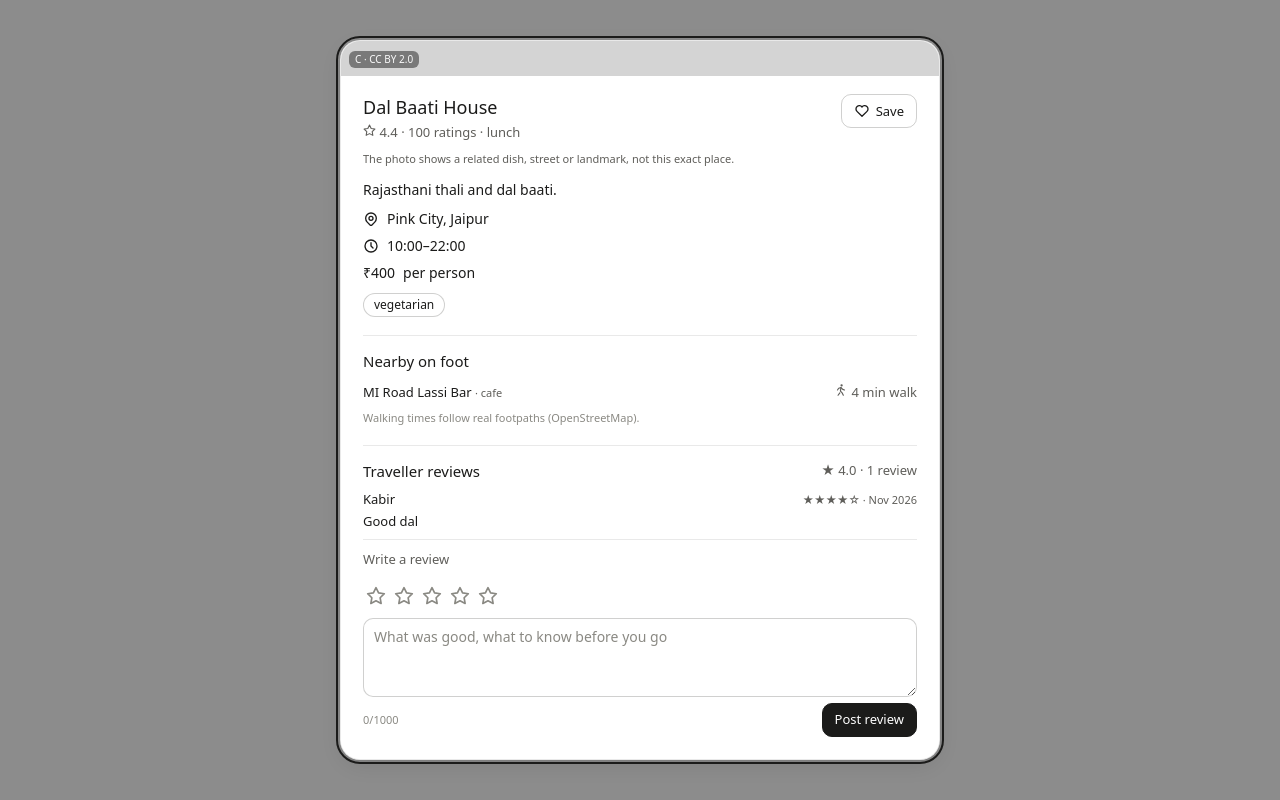
Scenario: place details and reviews › shows nearby walking times, the photo note and reviews; posting needs stars
The width and height of the screenshot is (1280, 800).
(page scrolled)
Check: the text "MI Road Lassi Bar" is shown, box [363, 383, 472, 401]
Check: the text "4 min walk" is shown, box [834, 383, 917, 402]
Step 1. Click the button "Post review" → {"x": 869, "y": 720}, box [822, 703, 917, 737]
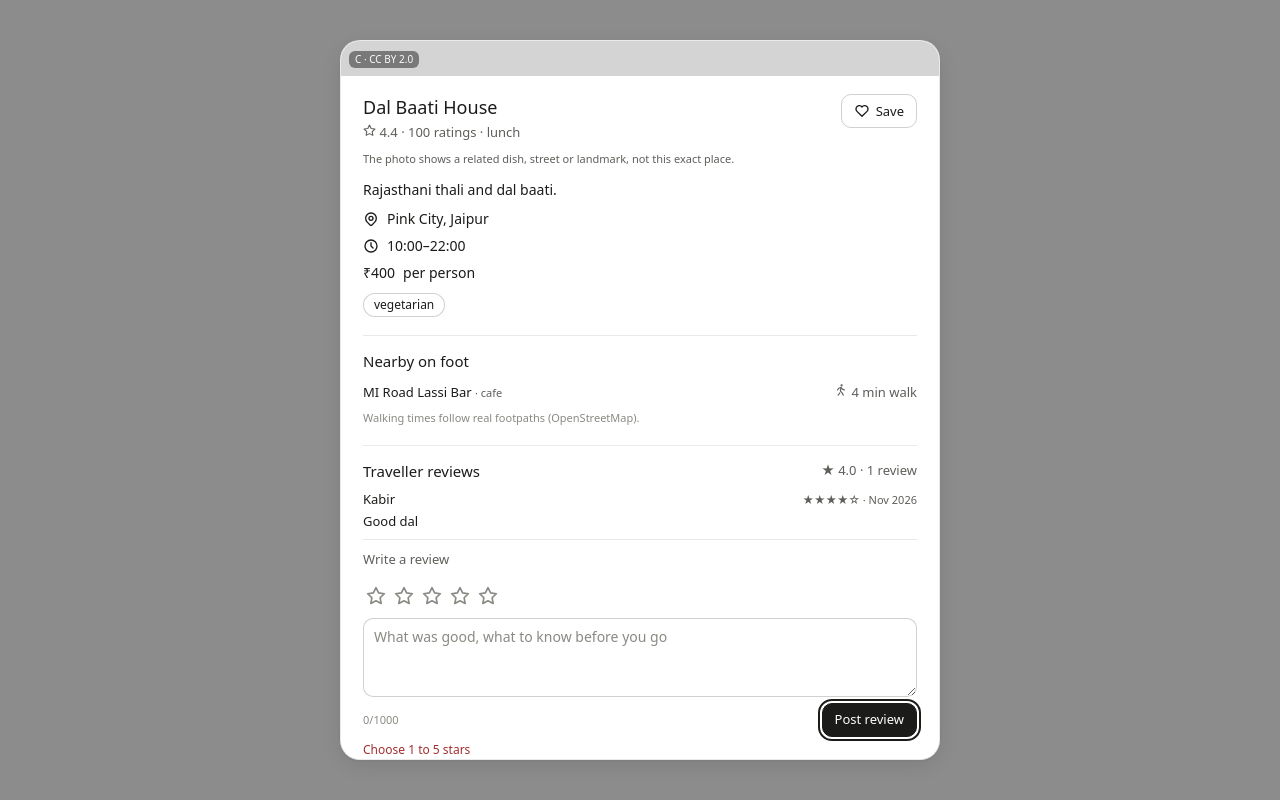
Check: the message reads "Choose 1 to 5 stars", box [363, 741, 470, 758]
Step 2. Click the radio button named "5 stars" → {"x": 488, "y": 596}, box [475, 580, 501, 612]
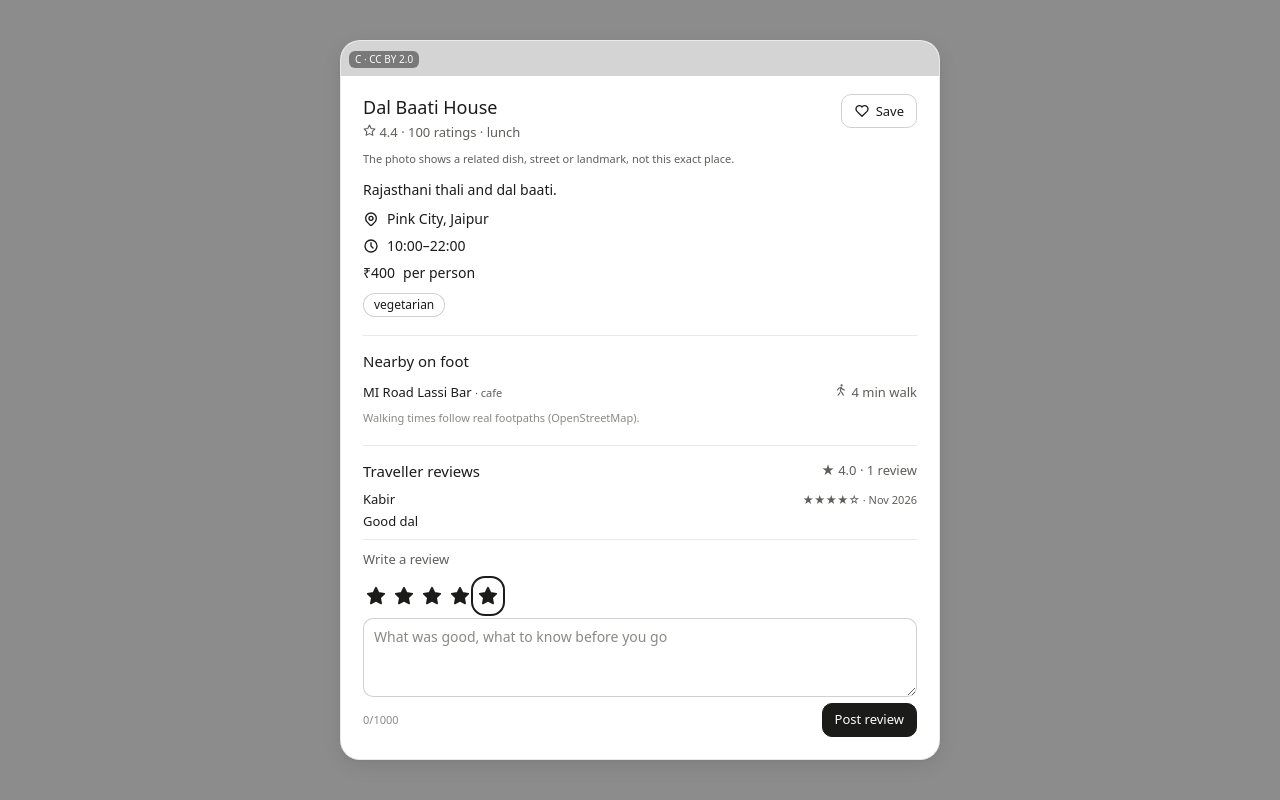
Step 3. Type "Loved the thali" into the text box named "Your review" → {"x": 640, "y": 657}, box [363, 618, 917, 697]
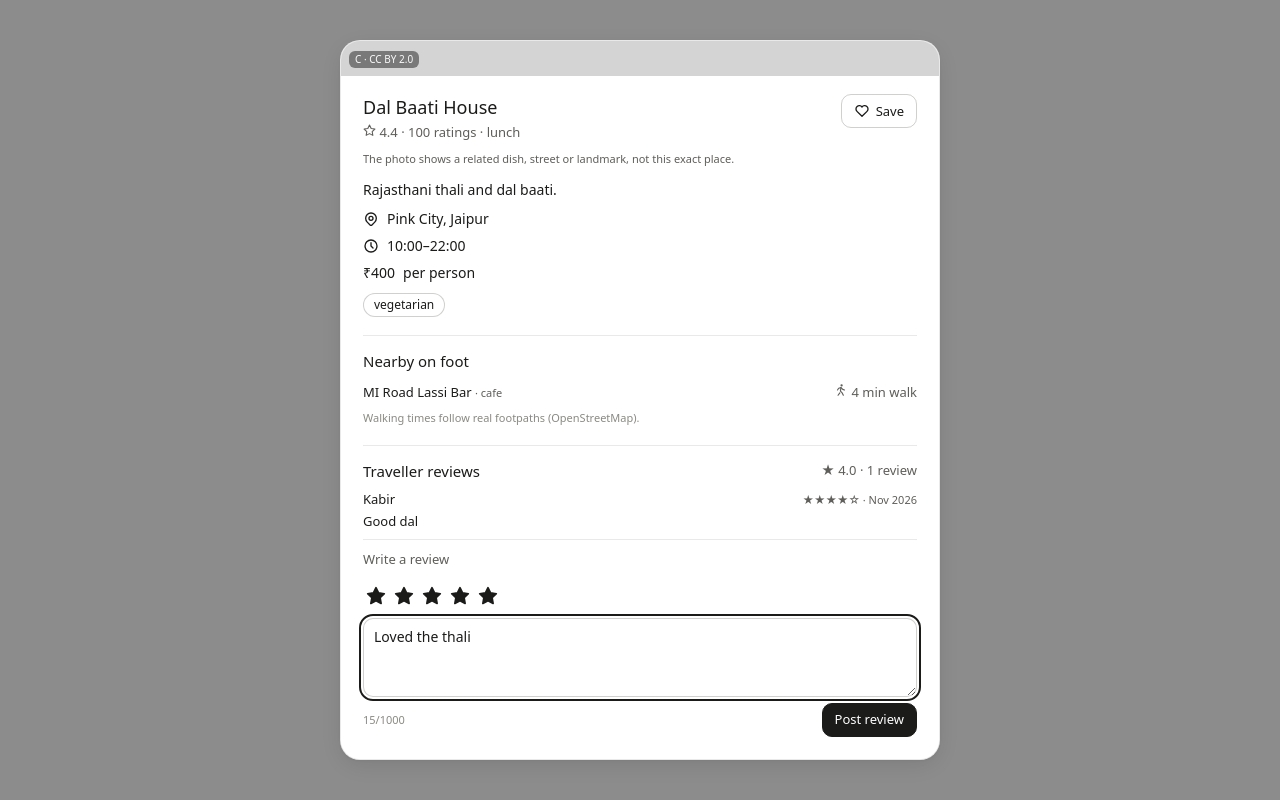
Step 4. Click the button "Post review" → {"x": 869, "y": 720}, box [822, 703, 917, 737]
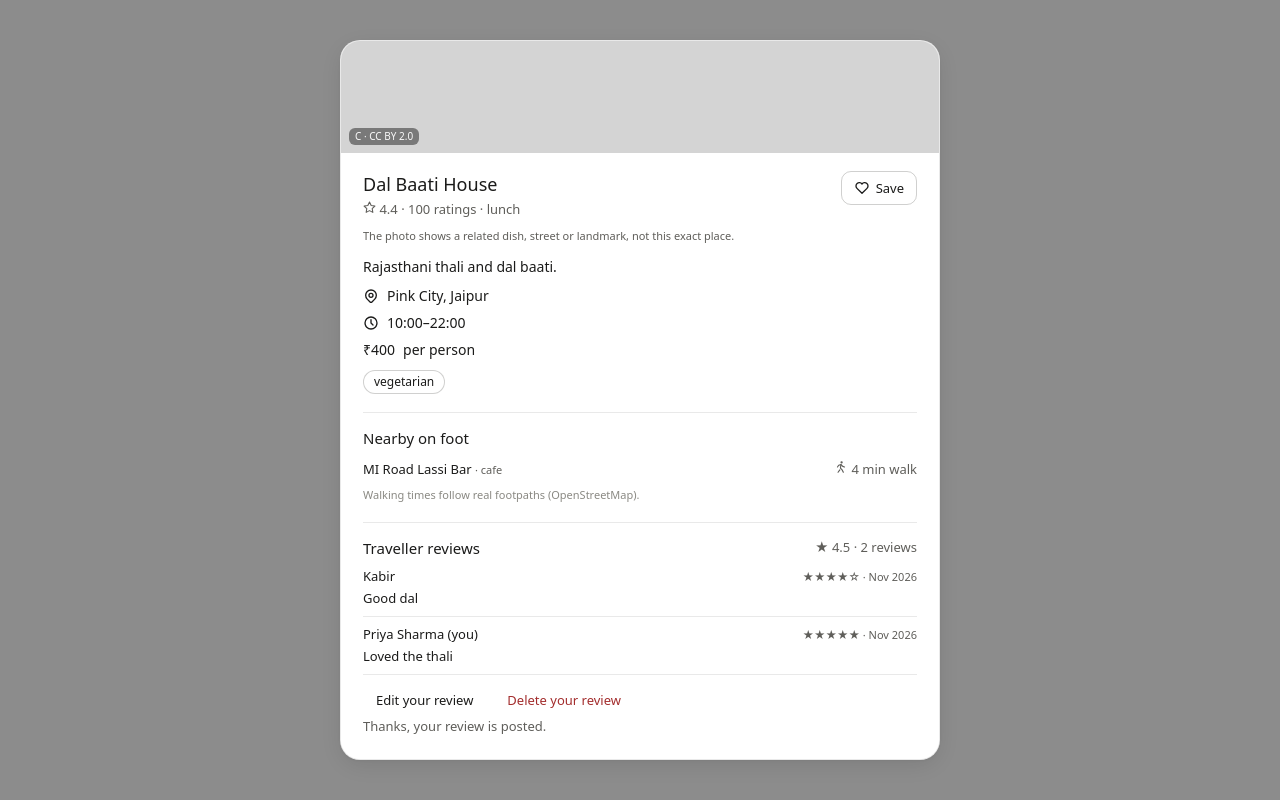
Check: the text "Thanks, your review is posted." is shown, box [363, 717, 546, 735]
Check: the text "Loved the thali" is shown, box [363, 647, 453, 665]
Check: the button "Edit your review" is shown, box [363, 683, 486, 717]
